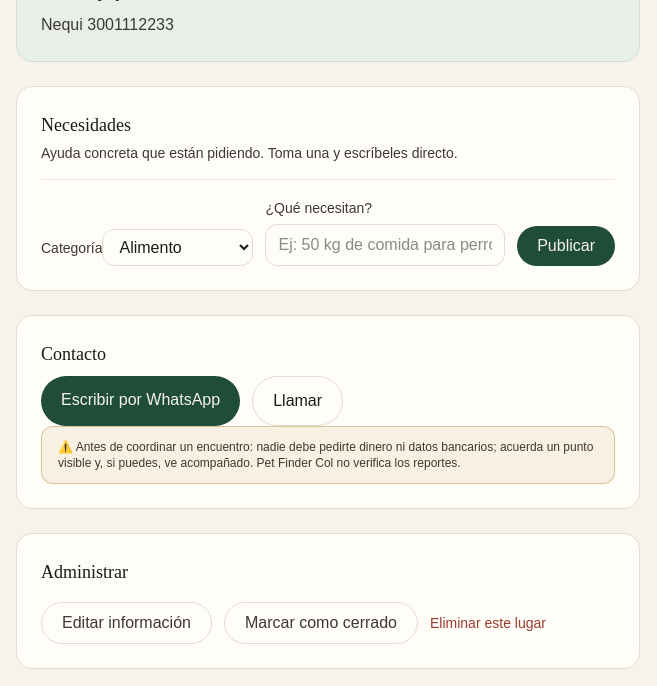
Test: OrganizacionDetalle › cerrar el lugar muestra el aviso y oculta el contacto
(page scrolled)
Click the button "Marcar como cerrado": (321, 622) [224,602,418,644]
(page scrolled)
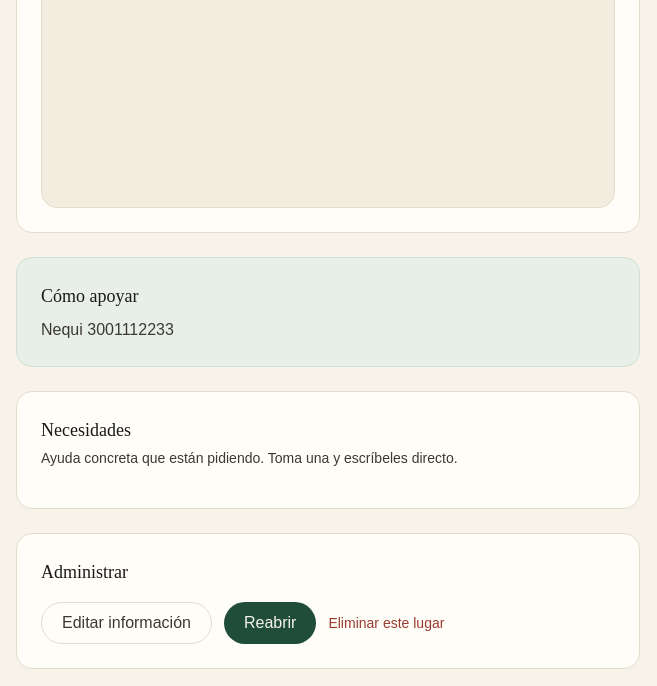
Now the link "Escribir por WhatsApp" is gone
Now the button "Reabrir" is shown, box [224,602,316,644]
